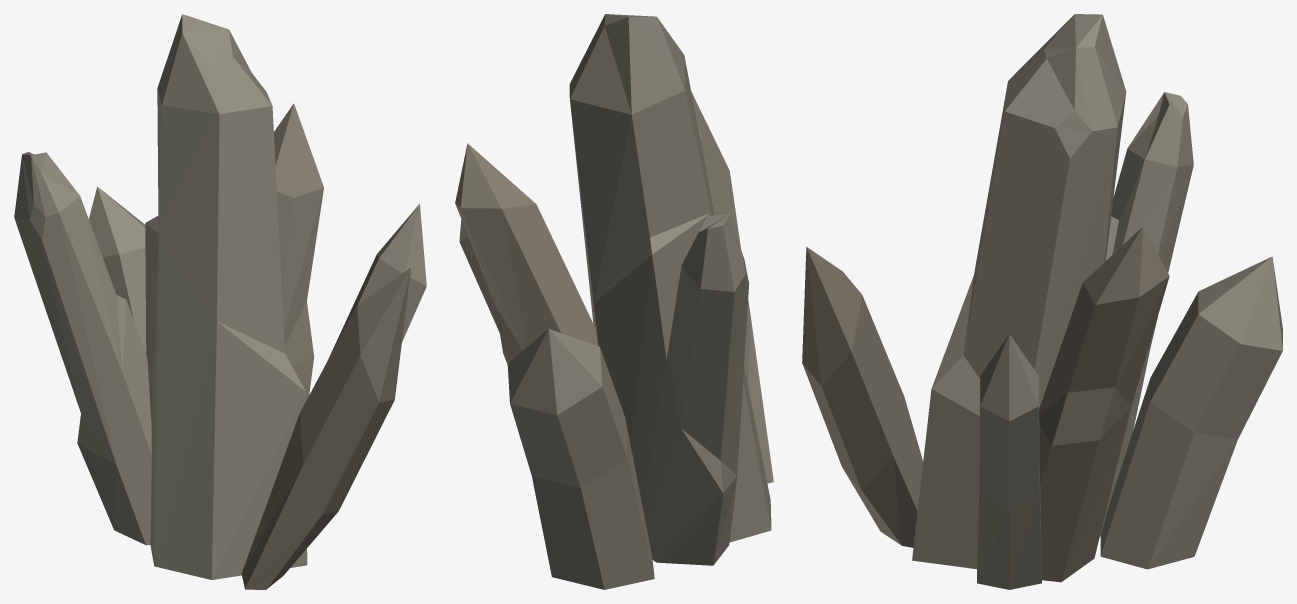
The model's file is ADDON_STONES_CRYSTAL_ROSE_01_228P.OBJ.
3 views of the same model, side by side, from view 1: azimuth 30°, elevation 25°; view 2: azimuth 150°, elevation 25°; view 3: azimuth 270°, elevation 25° (orthographic). The views are drawn at different scales.
Visible parts, largest first — view 1: ADDON_STONES_CRYSTAL_ROSE_01_228P; view 2: ADDON_STONES_CRYSTAL_ROSE_01_228P; view 3: ADDON_STONES_CRYSTAL_ROSE_01_228P.
Boxes of the visible parts, x1=… form: ADDON_STONES_CRYSTAL_ROSE_01_228P: x1=14, y1=14, x2=426, y2=589; ADDON_STONES_CRYSTAL_ROSE_01_228P: x1=455, y1=14, x2=773, y2=589; ADDON_STONES_CRYSTAL_ROSE_01_228P: x1=802, y1=14, x2=1282, y2=589.
Size of the model in its own units: 0.8864 by 1.26 by 1.04.
